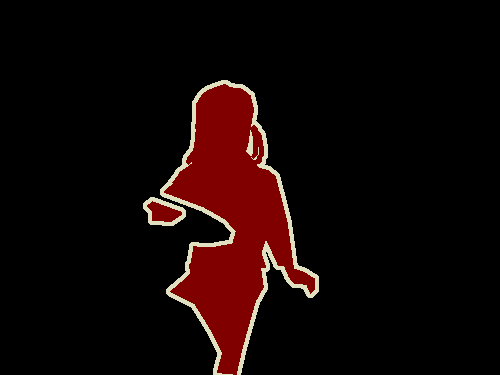person: (137, 84, 314, 375)
person/hand: (287, 270, 318, 297)
person/head: (196, 85, 256, 164)
